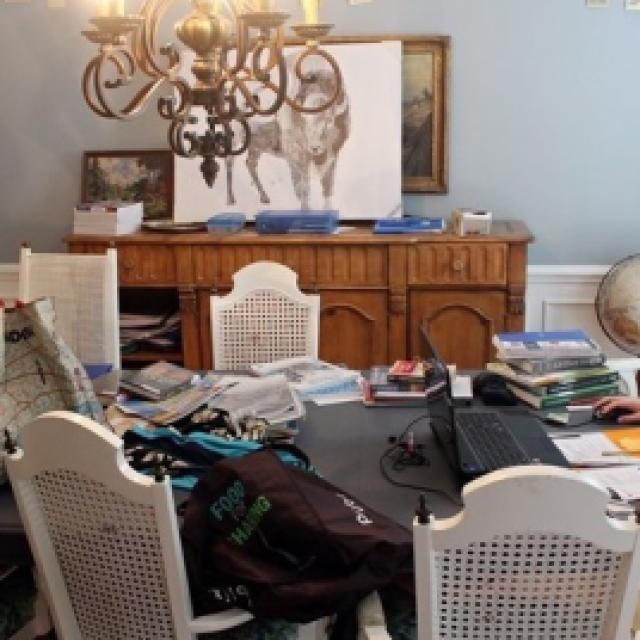mess: (0, 294, 640, 597)
